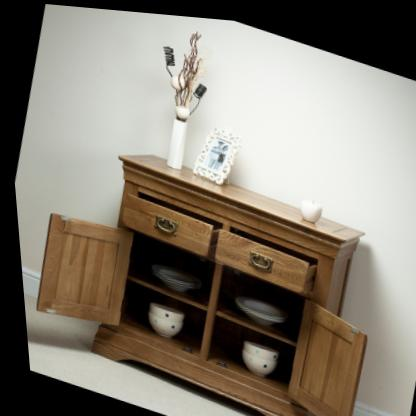Cupboard: (33, 152, 363, 416)
